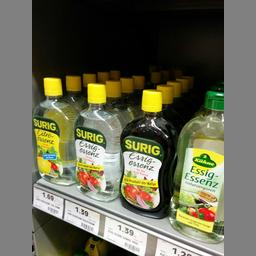vinegar: (169, 84, 224, 246), (116, 89, 174, 218), (71, 84, 122, 202), (32, 75, 77, 184)
